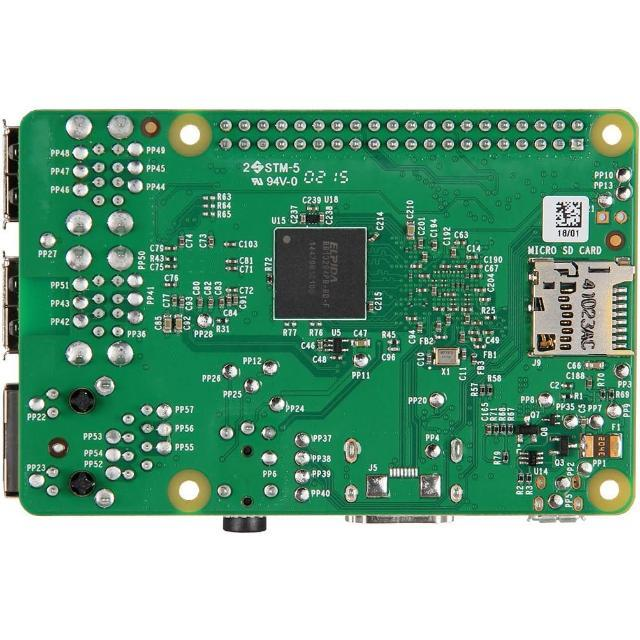Raspberry-Pi-2-B: (16, 109, 640, 532)
